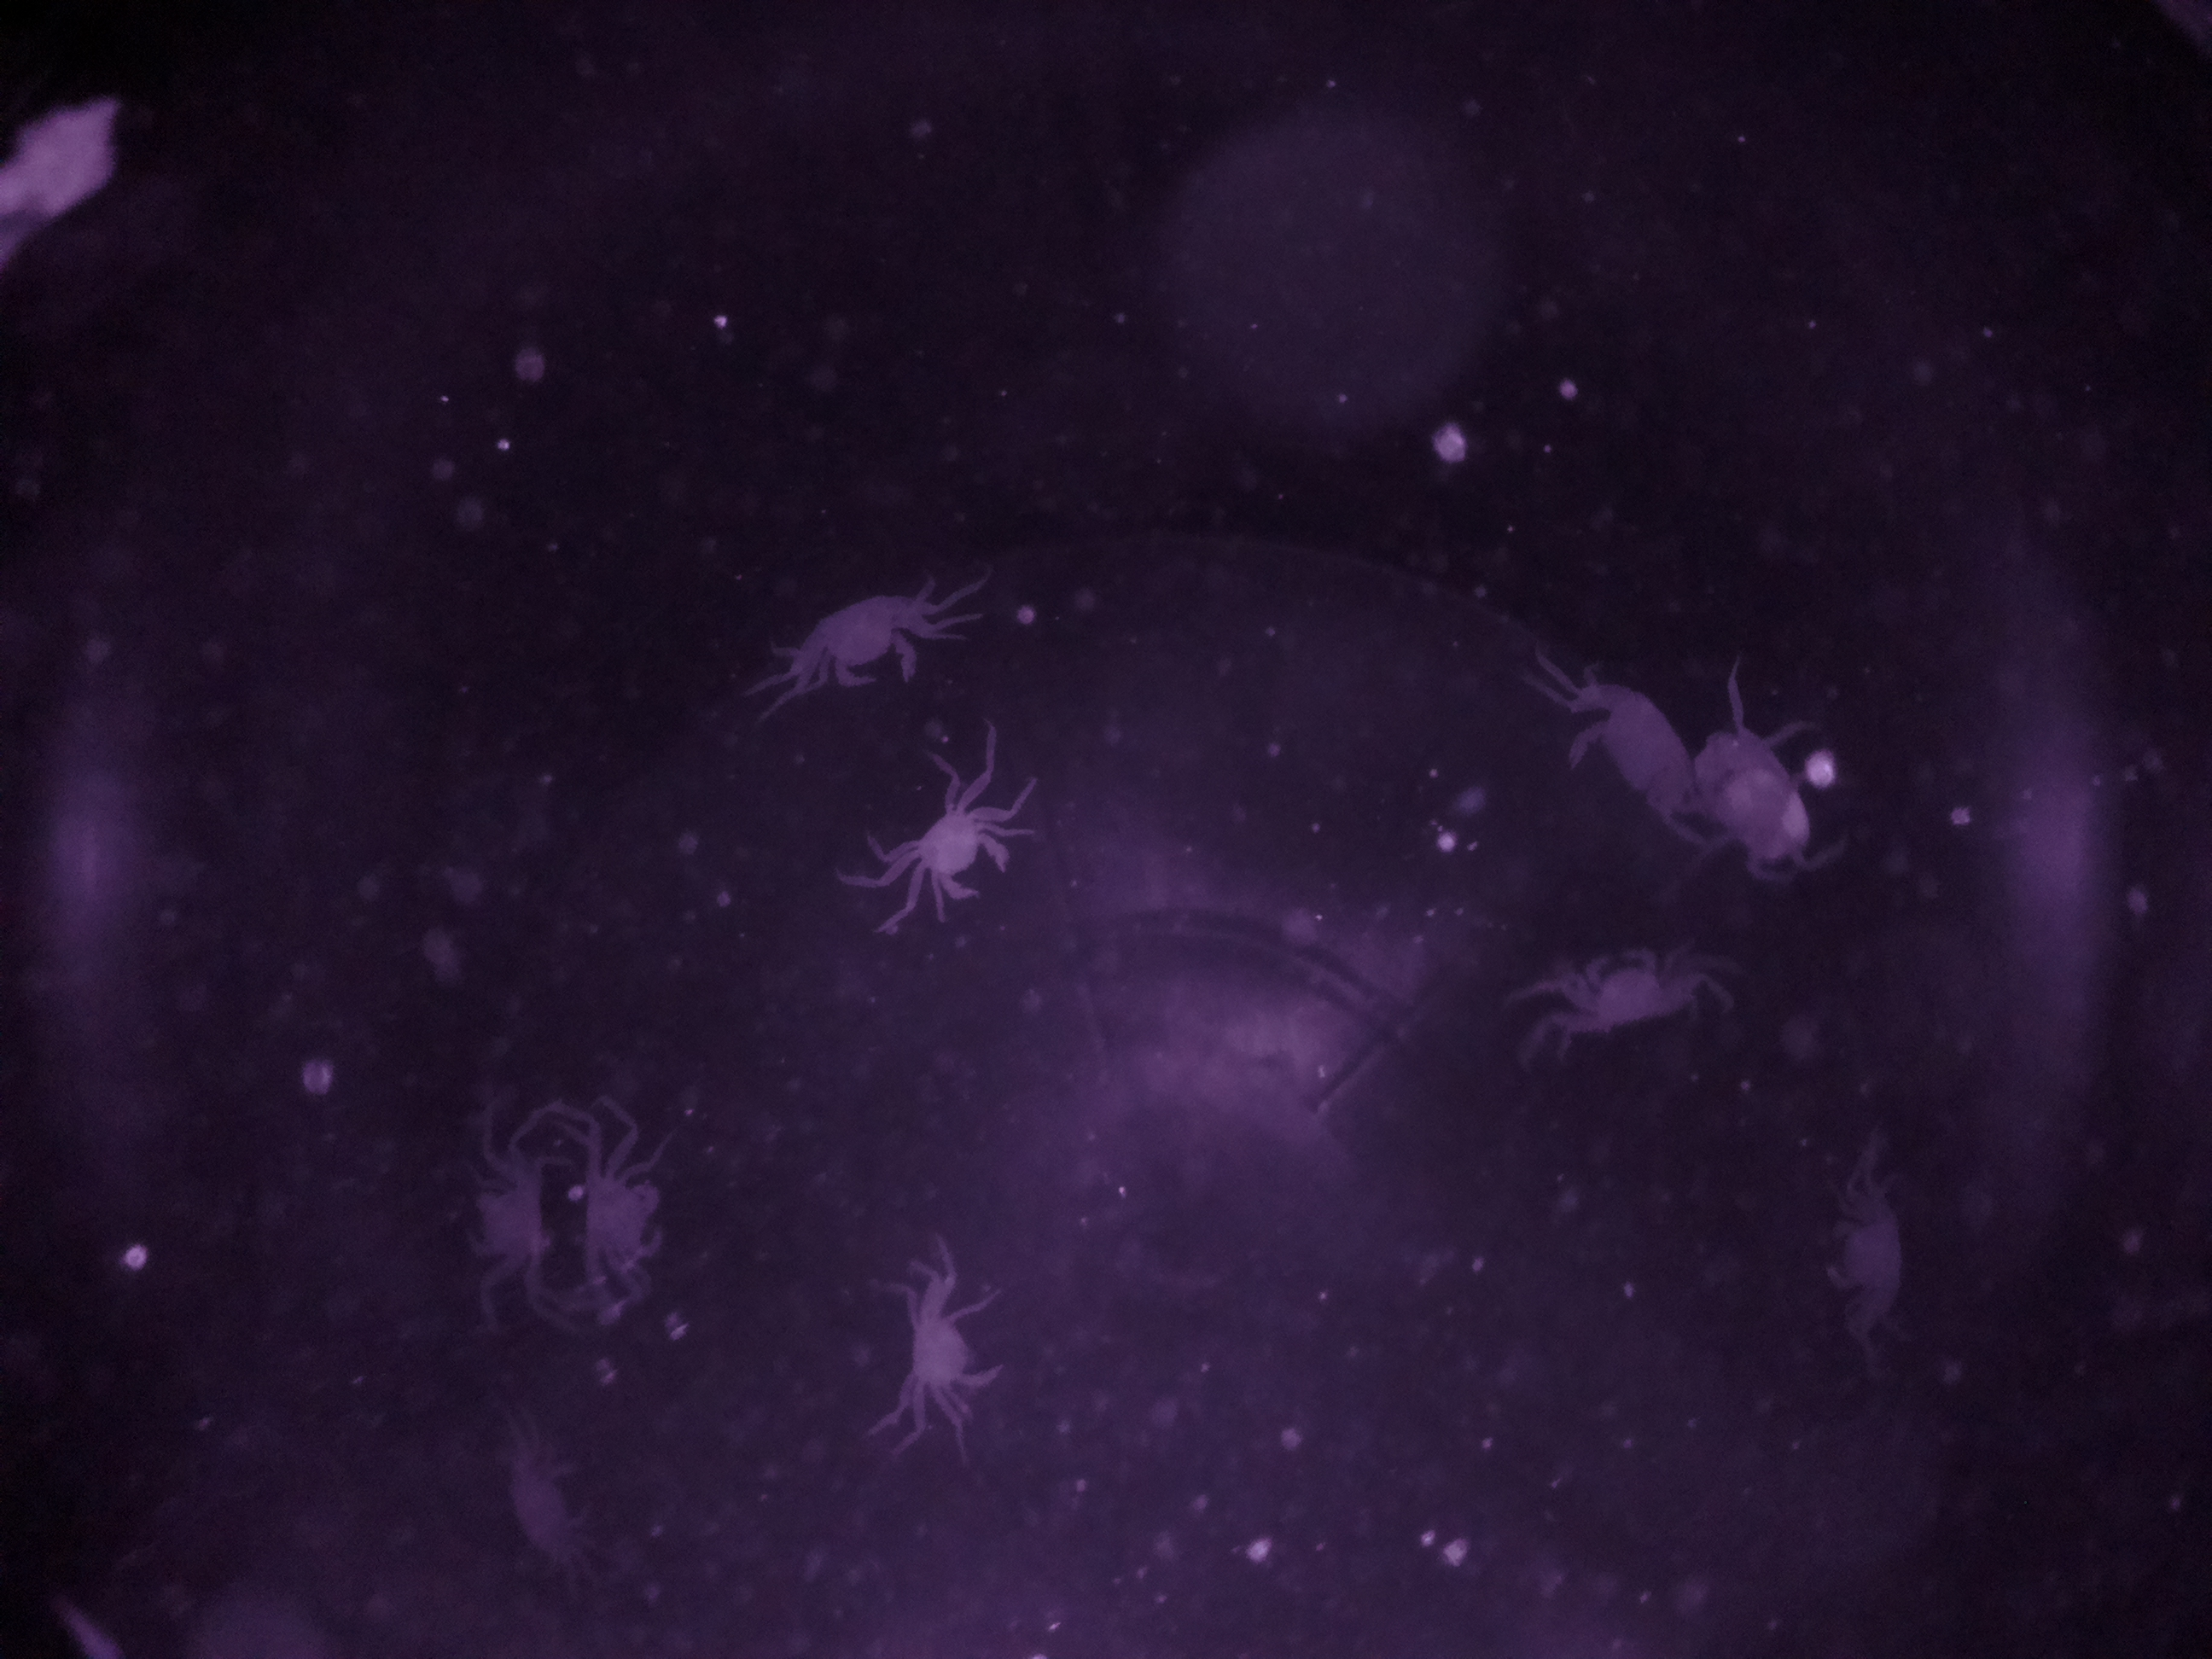Crab: (878, 784, 1038, 946), (446, 1121, 570, 1309), (874, 1267, 1022, 1424), (787, 561, 941, 708), (573, 1141, 700, 1312), (1548, 917, 1686, 1060)
